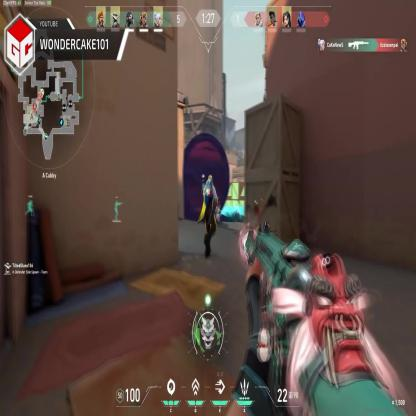enemy: (201, 172, 218, 261)
enemy_head: (207, 174, 213, 187)
